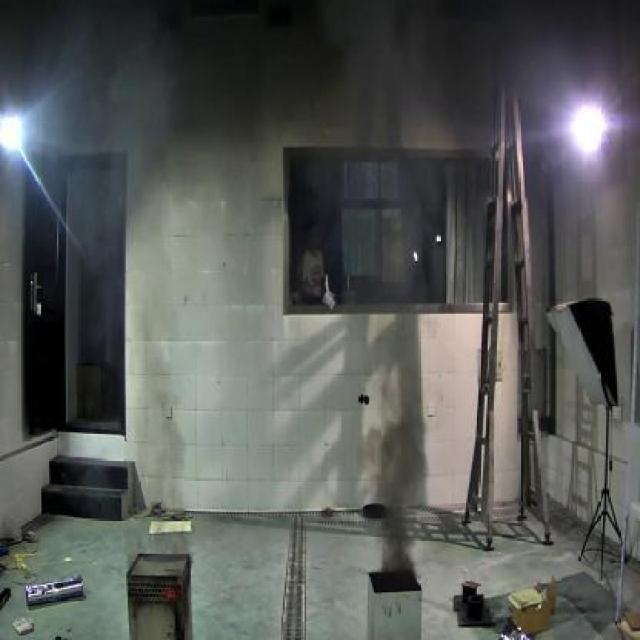fire: (361, 408, 430, 572)
